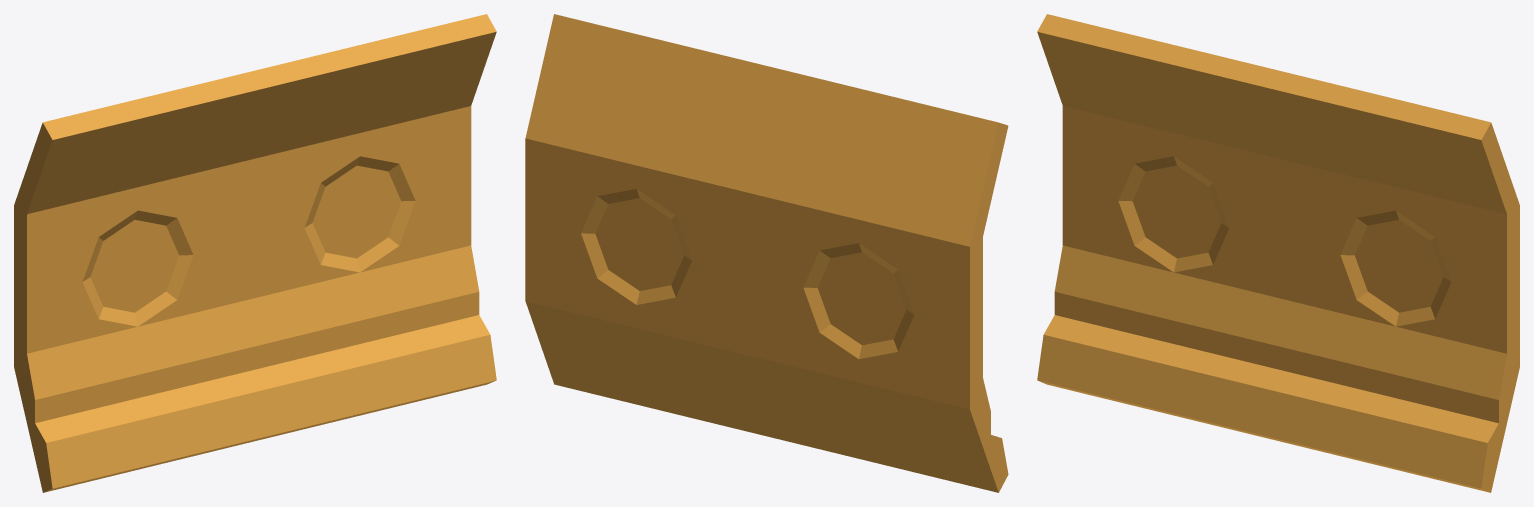
Rendered from scifi-scifi-windows-corridor.glb.
3 views of the same model, side by side, from view 1: azimuth 30°, elevation 25°; view 2: azimuth 150°, elevation 25°; view 3: azimuth 330°, elevation 25° (orthographic).
Visible parts, largest first — view 1: scifi-windows-corridor; view 2: scifi-windows-corridor; view 3: scifi-windows-corridor.
Boxes of the visible parts, left/top/right/bottom form: scifi-windows-corridor: left=14, top=14, right=496, bottom=492; scifi-windows-corridor: left=525, top=14, right=1008, bottom=492; scifi-windows-corridor: left=1037, top=14, right=1519, bottom=492.
Bounding box in the file's own units: 4 × 3.19 × 0.6.
